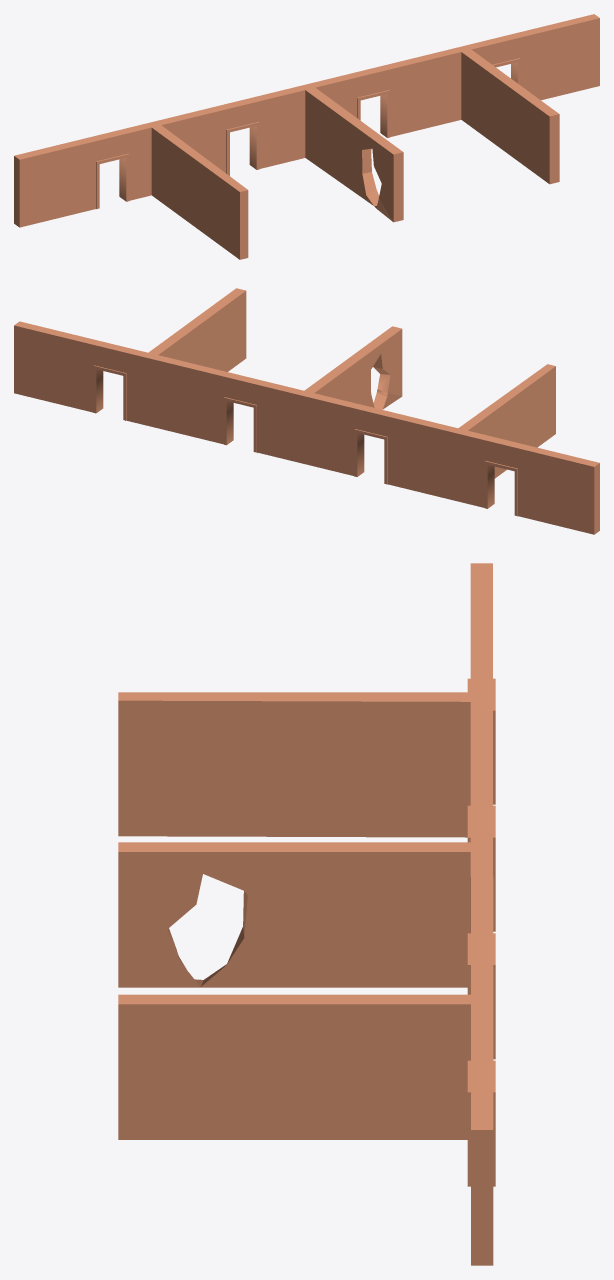
The model's file is ParedeQuartoELow.fbx.
The picture shows the model from 3 angles, top to bottom: view 1: azimuth 30°, elevation 25°; view 2: azimuth 150°, elevation 25°; view 3: azimuth 270°, elevation 25°; orthographic projection. The views are drawn at different scales.
Visible parts, largest first — view 1: ParedeQuartosE.001; view 2: ParedeQuartosE.001; view 3: ParedeQuartosE.001.
Part boxes in pixels (bbox=[...]): ParedeQuartosE.001: bbox=[14, 14, 599, 259]; ParedeQuartosE.001: bbox=[14, 288, 599, 534]; ParedeQuartosE.001: bbox=[118, 563, 495, 1265].
Size of the model in its own units: 3554 by 401 by 1001.
